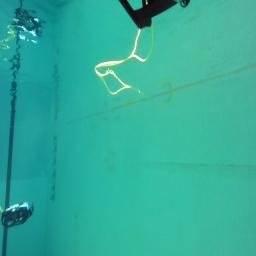Full: (117, 0, 190, 31)
Side: (2, 201, 34, 228)
